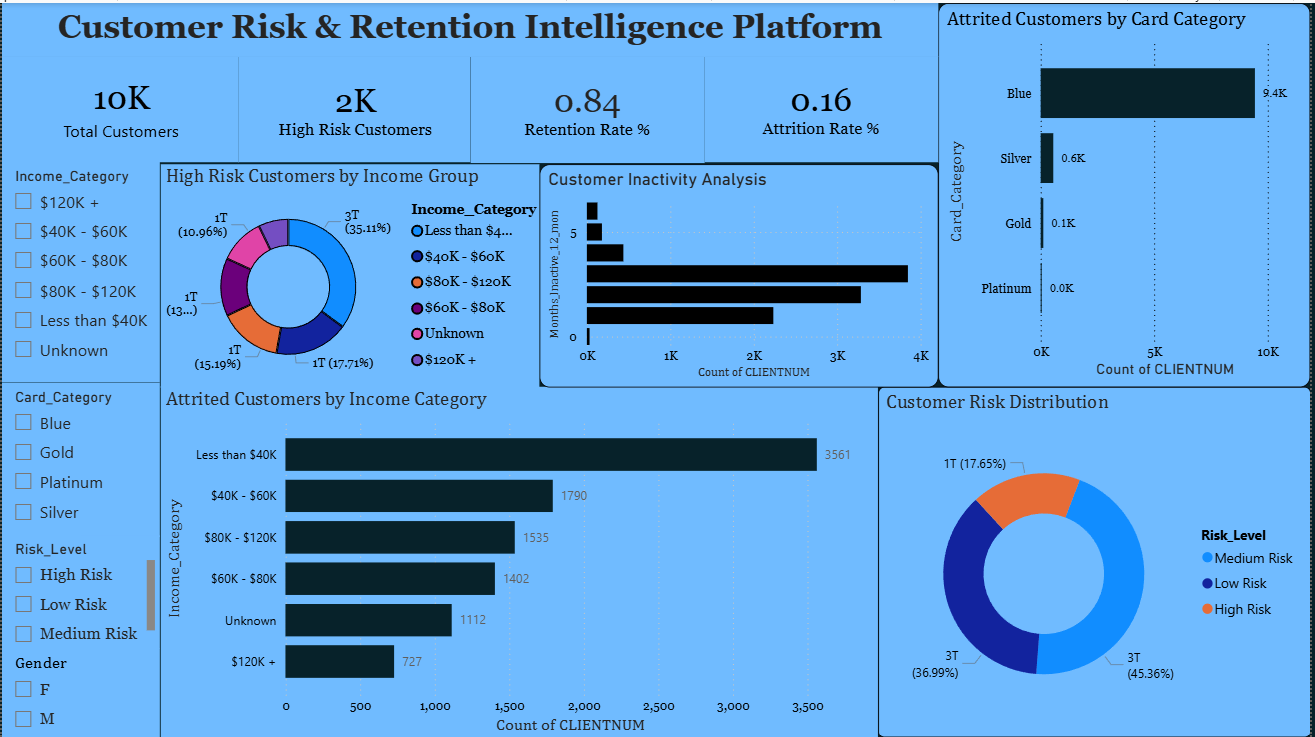

The page's visual inventory and layout, read from the dashboard file:
{"tool":"powerbi","page":{"name":"Page 1","canvas":[1280,720],"ordinal":0},"visuals":[{"type":"cardVisual","fields":{"Data":["Customer_Risk_Analytics.Total Customers"]},"box":[0,52.9,231.4,102.9],"z":0},{"type":"cardVisual","fields":{"Data":["Customer_Risk_Analytics.Retention Rate %"]},"box":[458.6,52.9,228.6,104.3],"z":1000},{"type":"cardVisual","fields":{"Data":["Customer_Risk_Analytics.High Risk Customers"]},"box":[231.4,52.9,227.1,102.9],"z":2000},{"type":"donutChart","title":"Customer Risk Distribution","fields":{"Y":["Sum(Customer_Risk_Analytics.CLIENTNUM)"],"Category":["Customer_Risk_Analytics.Risk_Level"]},"box":[857.1,375.7,422.9,344.3],"z":3000},{"type":"clusteredBarChart","title":"Attrited Customers by Income Category","fields":{"Category":["Customer_Risk_Analytics.Income_Category"],"Y":["Count(Customer_Risk_Analytics.CLIENTNUM)"]},"box":[155.7,375.7,701.4,344.3],"z":4000},{"type":"clusteredBarChart","title":"Attrited Customers by Card Category","fields":{"Category":["Customer_Risk_Analytics.Card_Category"],"Y":["Count(Customer_Risk_Analytics.CLIENTNUM)"]},"box":[915.7,0,364.3,375.7],"z":5000},{"type":"textbox","box":[0,0,915.7,52.9],"z":6000},{"type":"cardVisual","fields":{"Data":["Customer_Risk_Analytics.Attrition Rate %"]},"box":[687.1,52.9,228.6,102.9],"z":7000},{"type":"clusteredBarChart","title":"Customer Inactivity Analysis","fields":{"Category":["Customer_Risk_Analytics.Months_Inactive_12_mon"],"Y":["CountNonNull(Customer_Risk_Analytics.CLIENTNUM)"]},"box":[525.7,157.1,390,218.6],"z":8000},{"type":"donutChart","title":"High Risk Customers by Income Group","fields":{"Category":["Customer_Risk_Analytics.Income_Category"],"Y":["Sum(Customer_Risk_Analytics.CLIENTNUM)"]},"box":[155.7,157.1,370,218.6],"z":9000},{"type":"slicer","fields":{"Values":["Customer_Risk_Analytics.Income_Category"]},"box":[0,155.7,154.3,215.7],"z":10000},{"type":"slicer","fields":{"Values":["Customer_Risk_Analytics.Card_Category"]},"box":[0,371.4,154.3,150],"z":11000},{"type":"slicer","fields":{"Values":["Customer_Risk_Analytics.Risk_Level"]},"box":[0,521.4,154.3,110],"z":12000},{"type":"slicer","fields":{"Values":["Customer_Risk_Analytics.Gender"]},"box":[0,631.4,154.3,88.6],"z":13000}]}

Visuals, with their boxes in screenshot pixels (x1, y1, x2, y2), scaled from the page's 1280x720 canvas onto the 1315x737 screenshot:
cardVisual - Customer_Risk_Analytics.Total Customers: bbox(0, 54, 238, 159)
cardVisual - Customer_Risk_Analytics.Retention Rate %: bbox(471, 54, 706, 161)
cardVisual - Customer_Risk_Analytics.High Risk Customers: bbox(238, 54, 471, 159)
"Customer Risk Distribution" donutChart: bbox(881, 385, 1314, 736)
"Attrited Customers by Income Category" clusteredBarChart: bbox(160, 385, 881, 736)
"Attrited Customers by Card Category" clusteredBarChart: bbox(941, 0, 1314, 385)
textbox: bbox(0, 0, 941, 54)
cardVisual - Customer_Risk_Analytics.Attrition Rate %: bbox(706, 54, 941, 159)
"Customer Inactivity Analysis" clusteredBarChart: bbox(540, 161, 941, 385)
"High Risk Customers by Income Group" donutChart: bbox(160, 161, 540, 385)
slicer - Customer_Risk_Analytics.Income_Category: bbox(0, 159, 159, 380)
slicer - Customer_Risk_Analytics.Card_Category: bbox(0, 380, 159, 534)
slicer - Customer_Risk_Analytics.Risk_Level: bbox(0, 534, 159, 646)
slicer - Customer_Risk_Analytics.Gender: bbox(0, 646, 159, 736)
